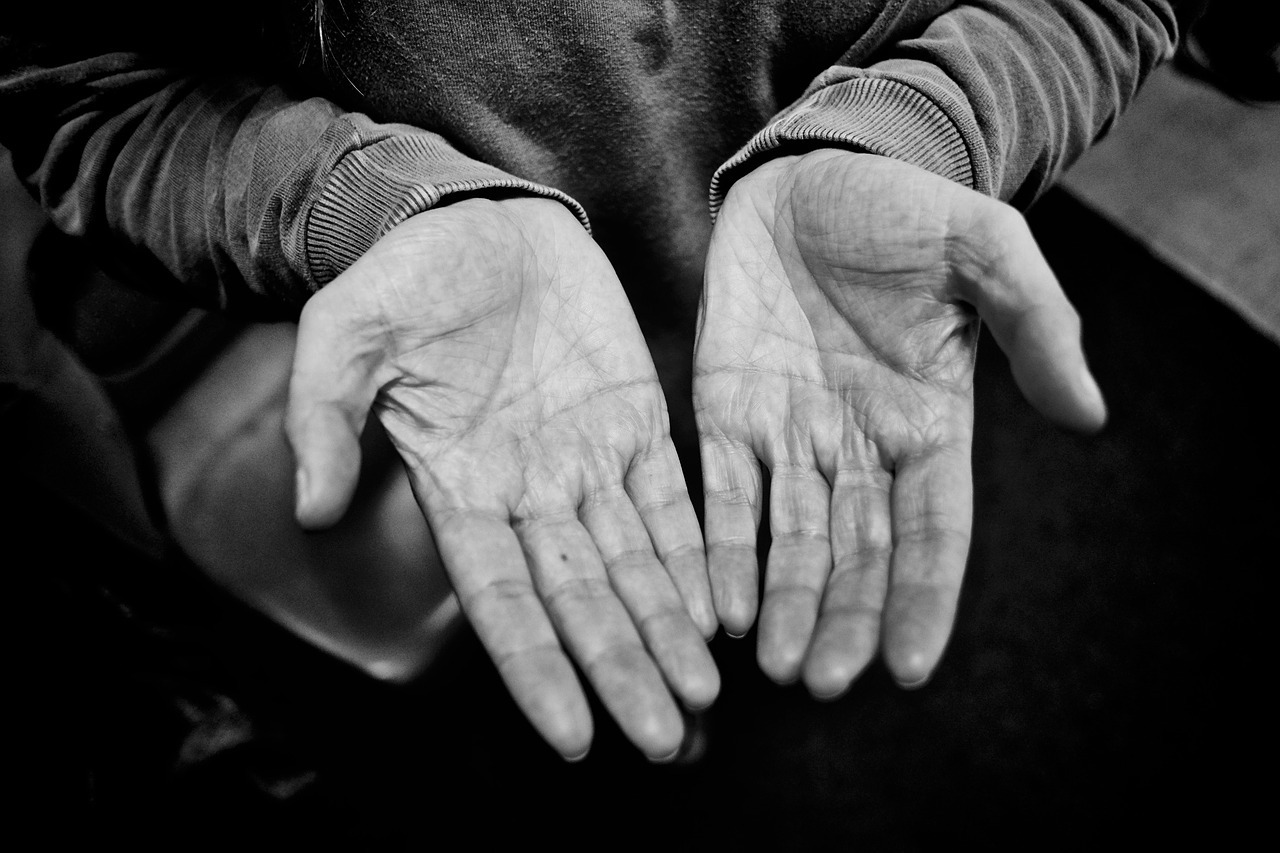palmhand: (355, 201, 689, 753), (695, 156, 998, 687)
